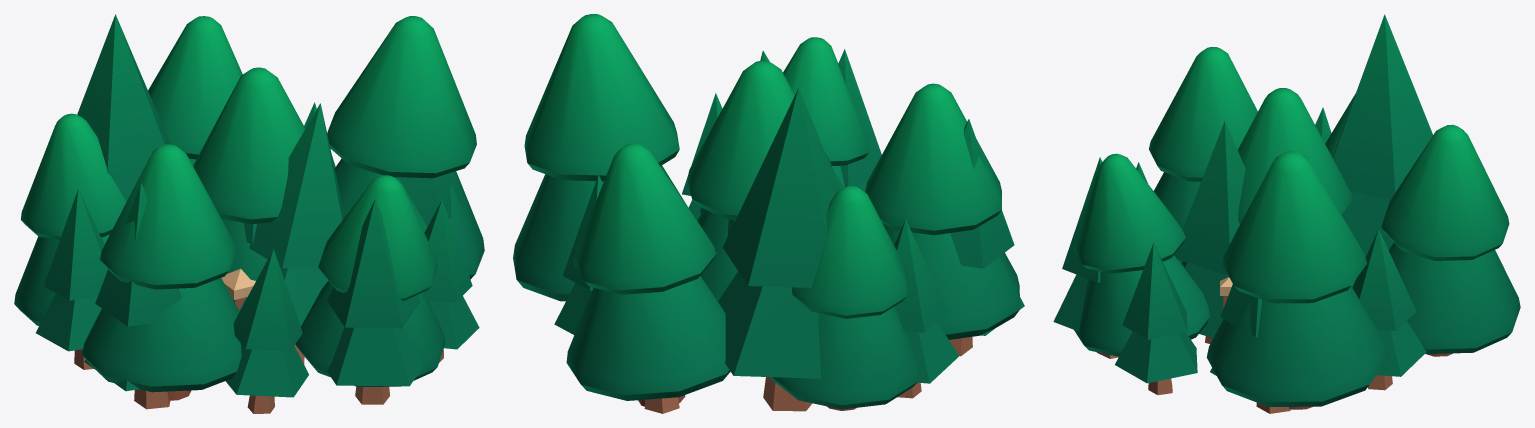
The model's file is cenario.glb.
3 views of the same model, side by side, from view 1: azimuth 30°, elevation 25°; view 2: azimuth 150°, elevation 25°; view 3: azimuth 270°, elevation 25° (orthographic). The views are drawn at different scales.
Parts seen in each view (by area): view 1: arvores_b, arvores_a, arvore_b, tenda; view 2: arvores_b, arvores_a, arvore_b; view 3: arvores_b, arvores_a, arvore_b.
Part boxes in pixels (x1,y1,x2,y2): arvores_b: [14, 16, 484, 400]; arvores_a: [36, 14, 479, 413]; arvore_b: [193, 67, 305, 311]; tenda: [221, 268, 255, 310]; arvores_b: [513, 14, 1019, 410]; arvores_a: [554, 49, 1024, 413]; arvore_b: [687, 60, 833, 300]; arvores_b: [1074, 47, 1520, 409]; arvores_a: [1053, 14, 1432, 413]; arvore_b: [1237, 88, 1355, 287].
Size of the model in its own units: 1.86 by 1.38 by 1.91.
Materials: 1 (1 with a texture image).
